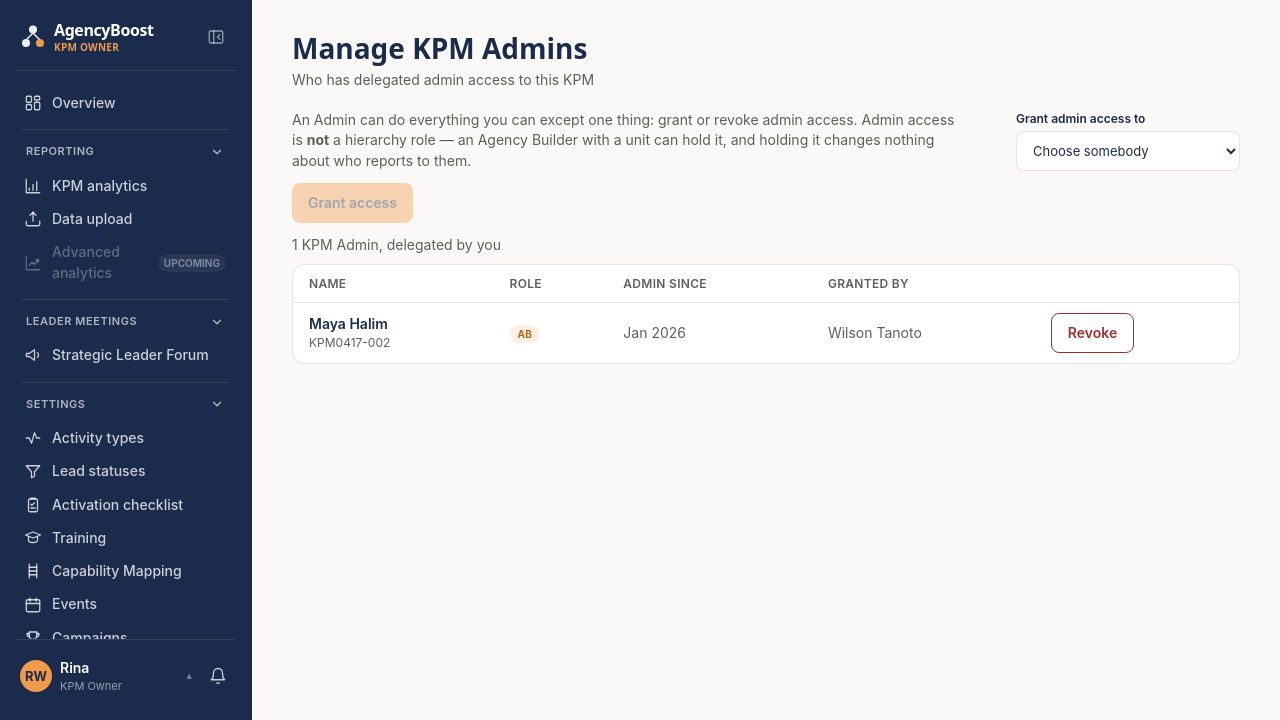
Scenario: manage KPM admins (P3-T10) › surfaces a refusal rather than looking like it worked
The image size is (1280, 720).
What coordinates should you click on to do the following:
click the button "Revoke"
I would click on:
 (1092, 333)
Its box is [1051,313,1134,353].
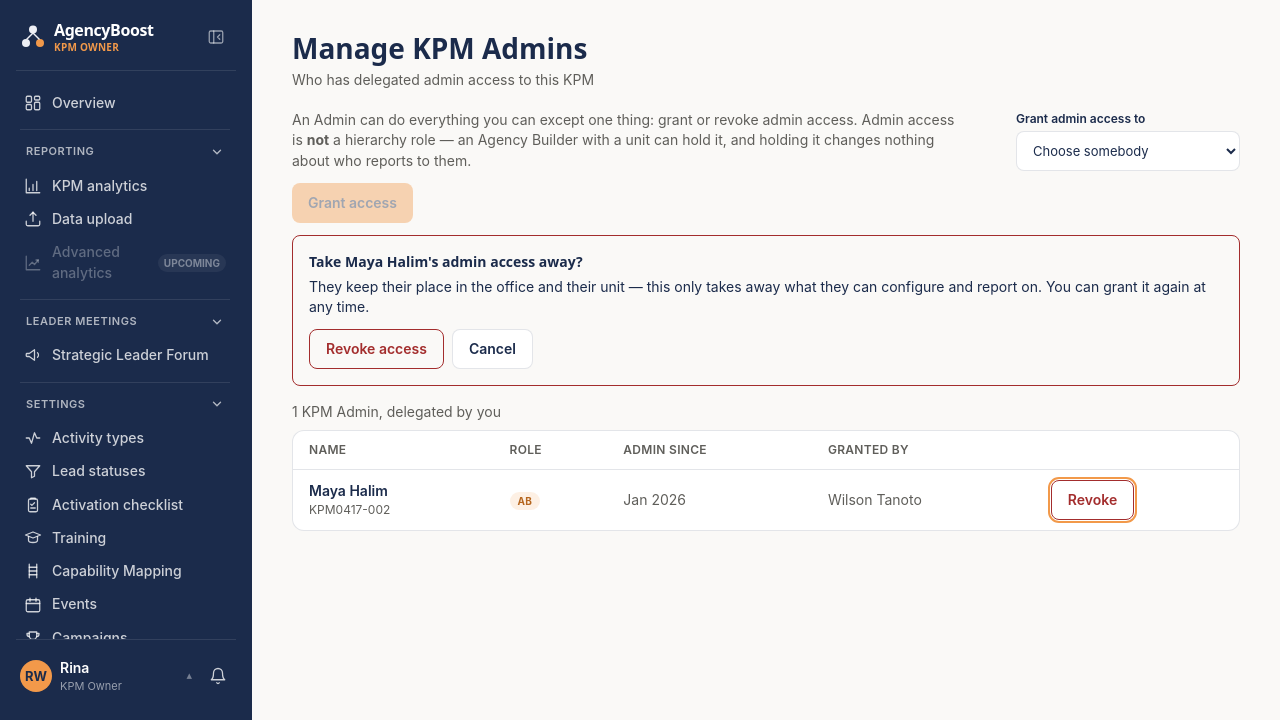
What coordinates should you click on to do the following:
click the button "Revoke access"
I would click on:
 (376, 349)
Its box is [309,329,444,369].
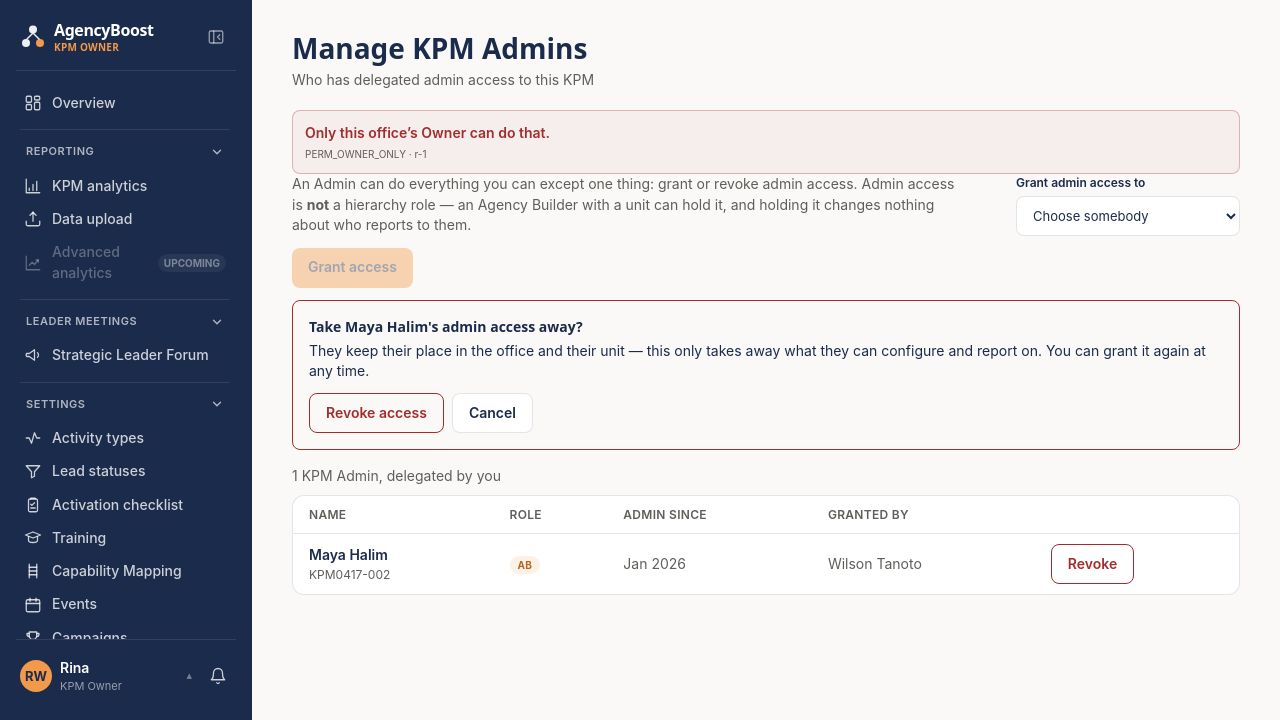
Expected: the message shows "Only this office’s Owner can do that", [305,124,550,141]
